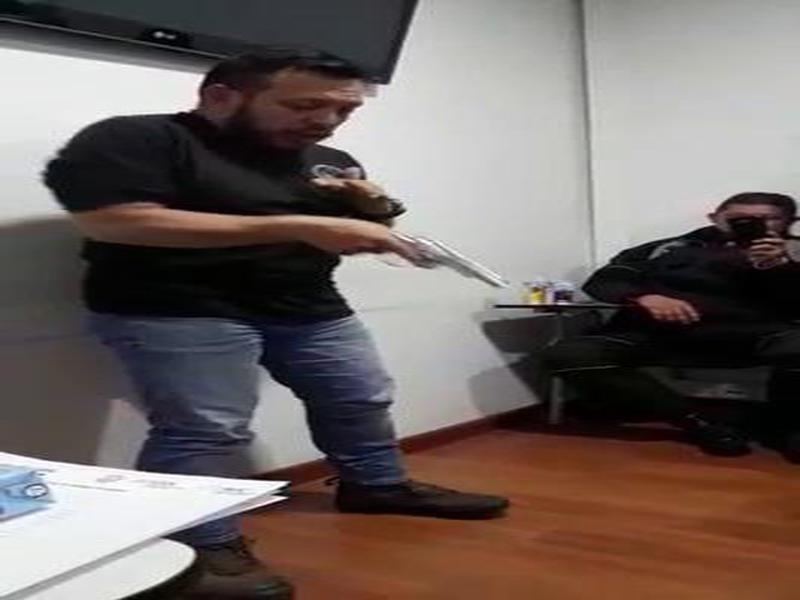Revolver: (374, 214, 514, 324)
